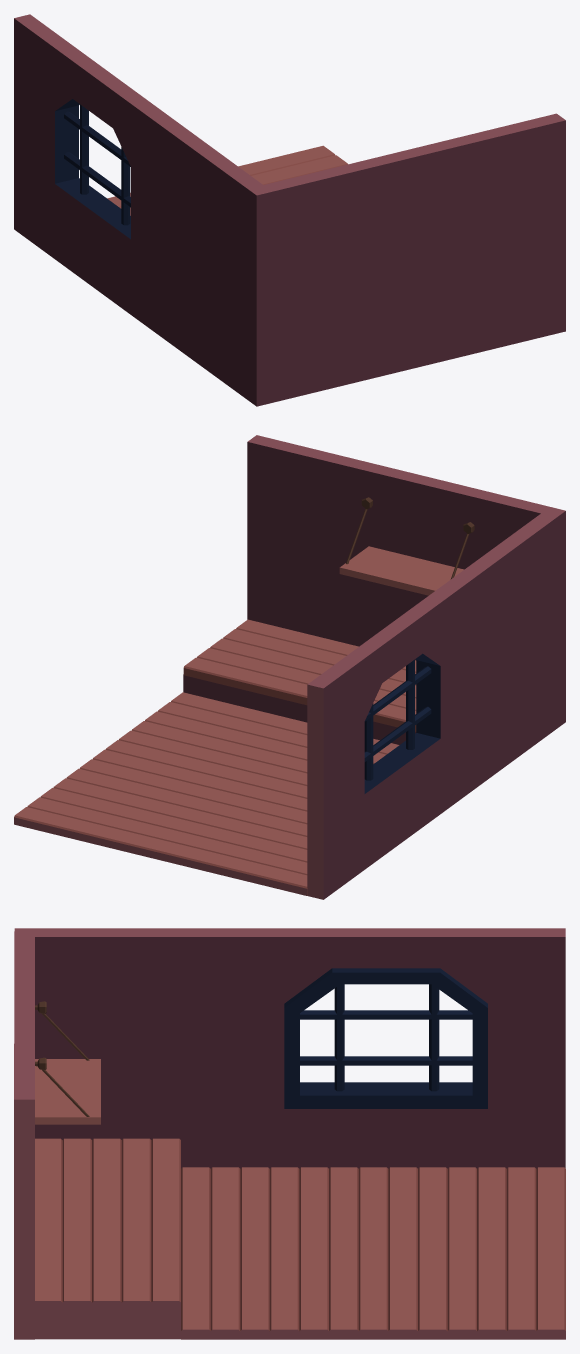
File: floorandwall.fbx
3 views of the same model, one above another, from view 1: azimuth 30°, elevation 25°; view 2: azimuth 150°, elevation 25°; view 3: azimuth 270°, elevation 25° (orthographic). The views are drawn at different scales.
Visible parts, largest first — view 1: clinic1; view 2: clinic1; view 3: clinic1.
Part boxes in pixels (left/top/right/bottom): clinic1: left=14, top=14, right=565, bottom=406; clinic1: left=14, top=435, right=565, bottom=899; clinic1: left=14, top=928, right=565, bottom=1339.
Size of the model in its own units: 558 by 364 by 759.
